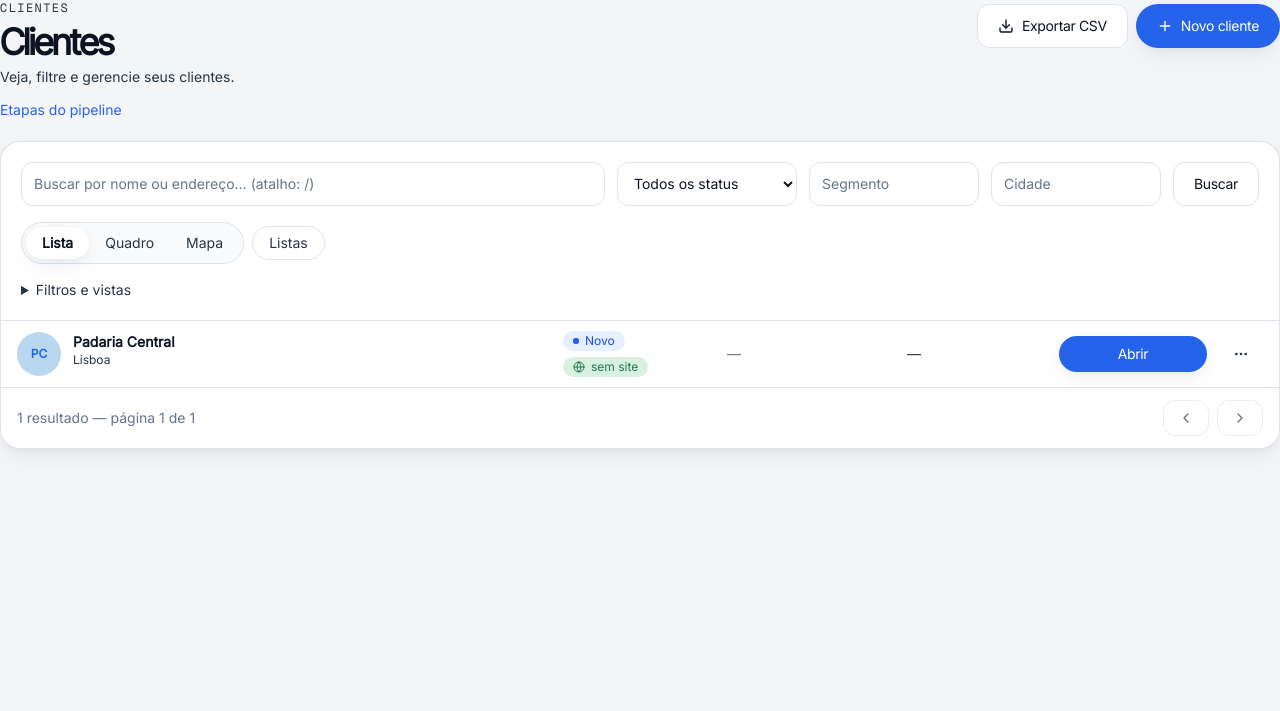
Test: LeadsPage saved views › hides city when the view columns omit it
This screenshot has width=1280, height=711.
Click the heading "Filtros e vistas". click: (83, 289)
box: left=36, top=281, right=131, bottom=298
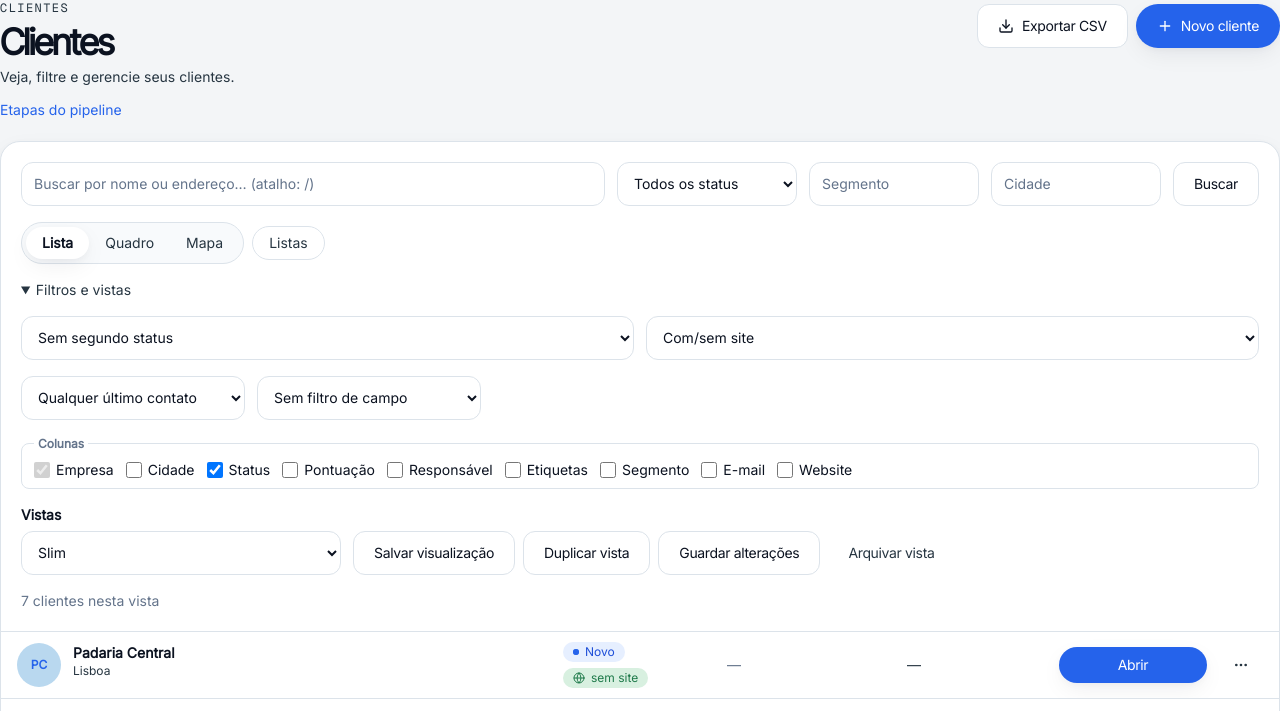
Expected: the checkbox labelled "Empresa" is checked, left=34, top=462, right=50, bottom=478
Expected: the checkbox labelled "Status" is checked, left=206, top=462, right=222, bottom=478
Expected: the checkbox labelled "Cidade" is not checked, left=126, top=462, right=142, bottom=478
